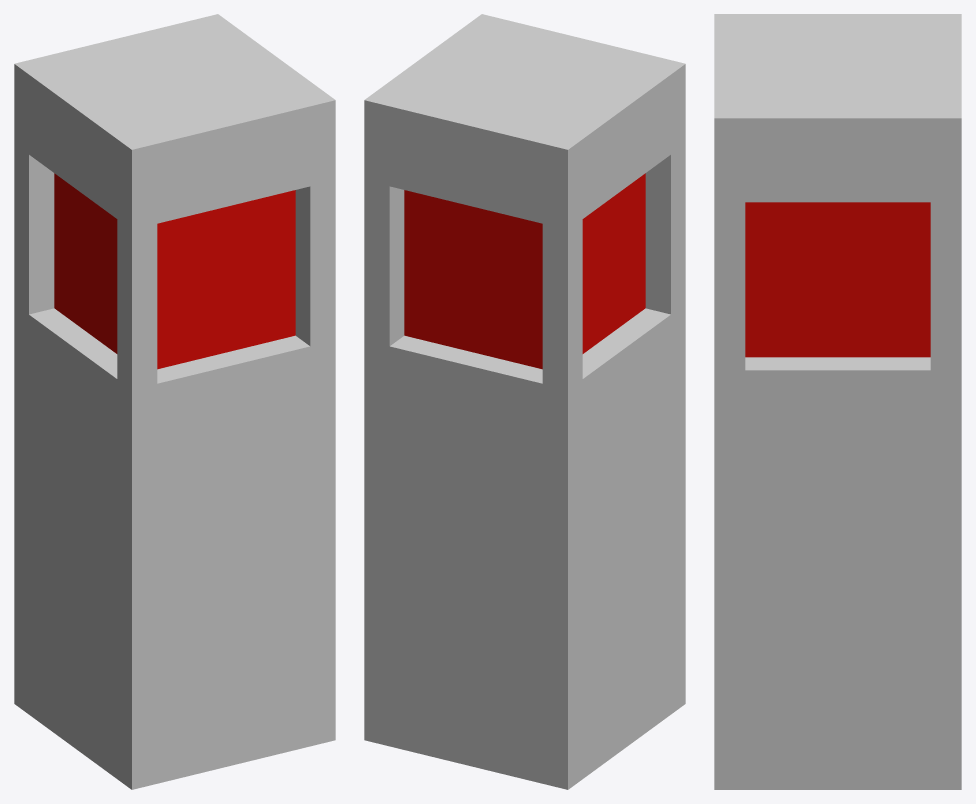
File: Window.fbx
3 renders of one model, left to right at view 1: azimuth 30°, elevation 25°; view 2: azimuth 150°, elevation 25°; view 3: azimuth 270°, elevation 25°, orthographic. The views are drawn at different scales.
Parts seen in each view (by area): view 1: Cube; view 2: Cube; view 3: Cube.
Boxes of the visible parts, x1=… form: Cube: x1=14, y1=14, x2=335, y2=789; Cube: x1=364, y1=14, x2=685, y2=789; Cube: x1=714, y1=14, x2=961, y2=789.
Bounding box in the file's own units: 200 × 600 × 200.
